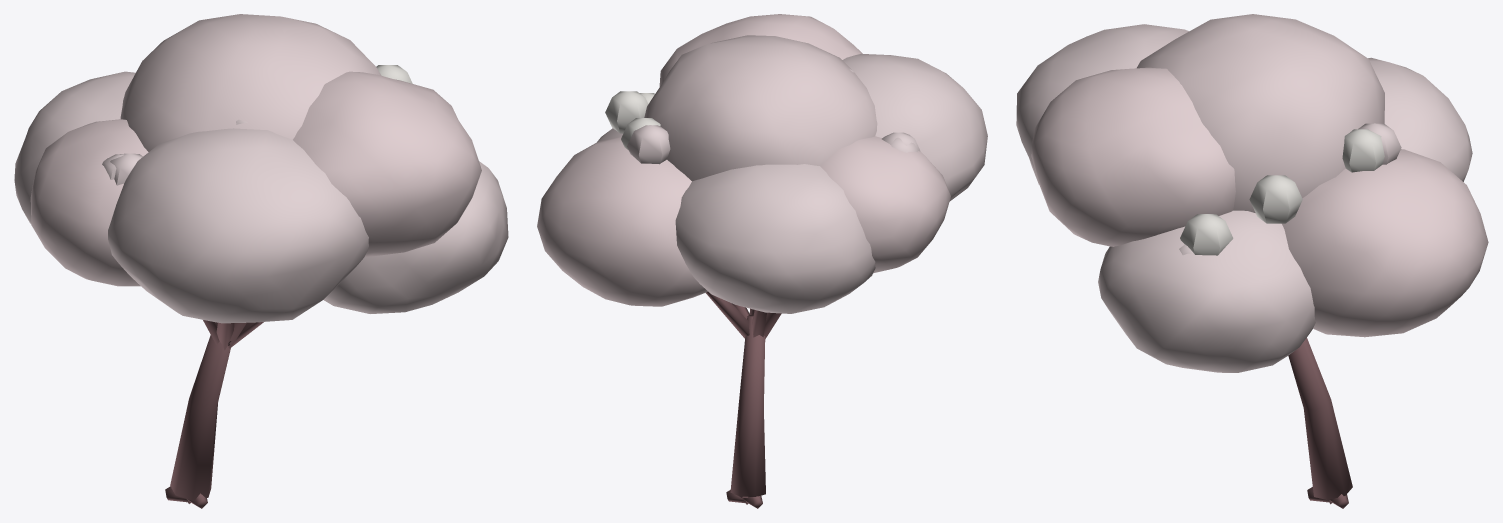
File: apple_blossom_b2.glb
3 views of the same model, side by side, from view 1: azimuth 30°, elevation 25°; view 2: azimuth 150°, elevation 25°; view 3: azimuth 270°, elevation 25° (orthographic). The views are drawn at different scales.
Parts seen in each view (by area): view 1: apple_blossom_b2; view 2: apple_blossom_b2; view 3: apple_blossom_b2.
Part boxes in pixels (x1,y1,x2,y2): apple_blossom_b2: (14, 14, 508, 508); apple_blossom_b2: (537, 14, 987, 508); apple_blossom_b2: (1016, 14, 1488, 508).
Size of what is drawn, in the model's own units: 5.35 by 6 by 5.3.
